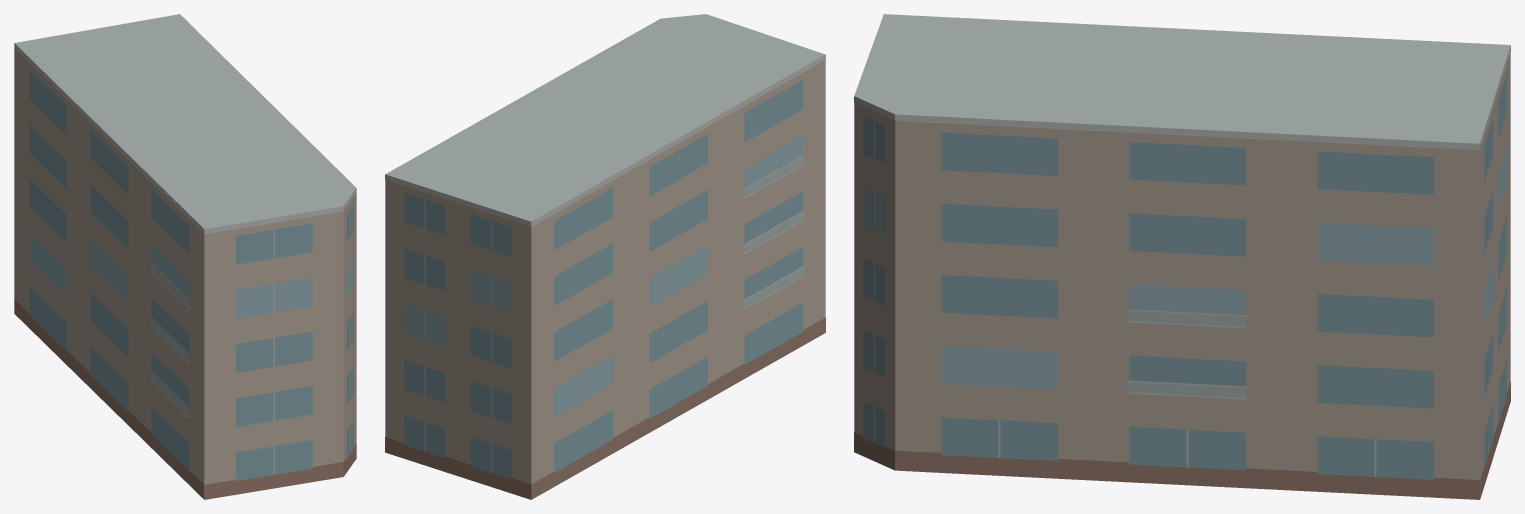
File: survey-upis-32520362.glb
3 renders of one model, left to right at view 1: azimuth 30°, elevation 25°; view 2: azimuth 150°, elevation 25°; view 3: azimuth 270°, elevation 25°, orthographic. The views are drawn at different scales.
Visible parts, largest first — view 1: survey-upis-32520362.tmp; view 2: survey-upis-32520362.tmp; view 3: survey-upis-32520362.tmp.
Boxes of the visible parts, box(x1,y1,x2,y2) form: survey-upis-32520362.tmp: box(14, 14, 356, 499); survey-upis-32520362.tmp: box(385, 14, 825, 499); survey-upis-32520362.tmp: box(854, 14, 1510, 499).
Bounding box in the file's own units: 10.29 × 13.15 × 21.99.
